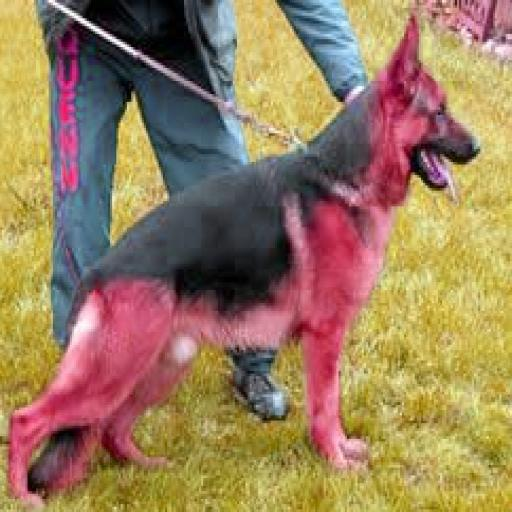dog_face: (382, 28, 473, 198)
